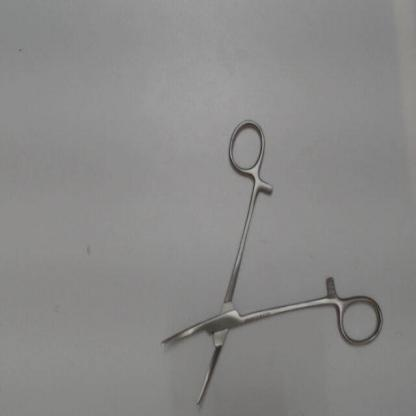Crile Artery Forceps: (154, 111, 388, 409)
